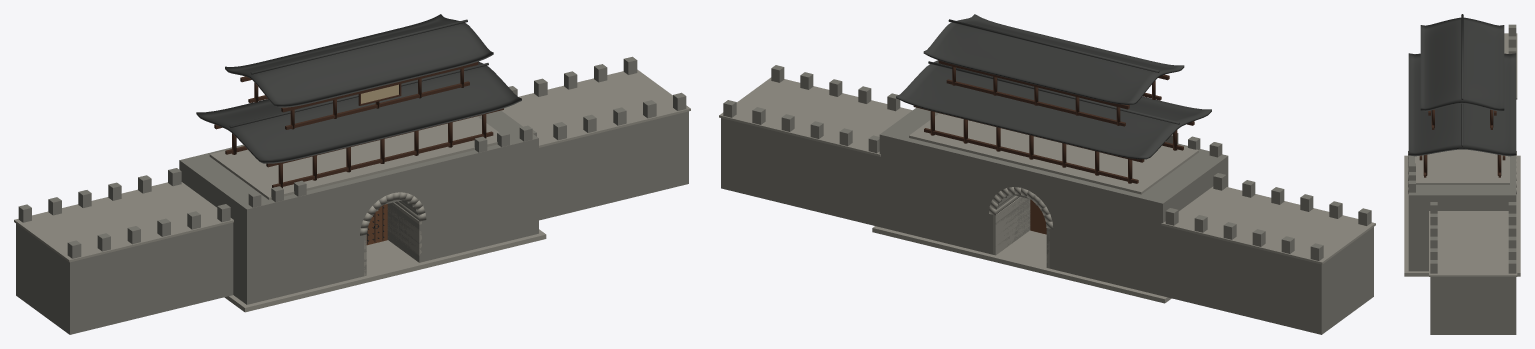
Rendered from SM_Zhengximen_LOD3.fbx.
3 views of the same model, side by side, from view 1: azimuth 30°, elevation 25°; view 2: azimuth 150°, elevation 25°; view 3: azimuth 270°, elevation 25° (orthographic). The views are drawn at different scales.
Parts seen in each view (by area): view 1: SM_Zhengximen_LOD3_GrayBrick, SM_Zhengximen_LOD3_StoneFoundation, SM_Zhengximen_LOD3_ClayRoofTile, SM_Zhengximen_LOD3_DarkTimber, SM_Zhengximen_LOD3_AgedWood; view 2: SM_Zhengximen_LOD3_GrayBrick, SM_Zhengximen_LOD3_StoneFoundation, SM_Zhengximen_LOD3_ClayRoofTile, SM_Zhengximen_LOD3_DarkTimber; view 3: SM_Zhengximen_LOD3_ClayRoofTile, SM_Zhengximen_LOD3_GrayBrick, SM_Zhengximen_LOD3_StoneFoundation, SM_Zhengximen_LOD3_DarkTimber.
Boxes of the visible parts, box(x1,y1,x2,y2) form: SM_Zhengximen_LOD3_GrayBrick: box(16, 56, 688, 334); SM_Zhengximen_LOD3_StoneFoundation: box(14, 69, 690, 312); SM_Zhengximen_LOD3_ClayRoofTile: box(196, 14, 521, 163); SM_Zhengximen_LOD3_DarkTimber: box(214, 62, 503, 188); SM_Zhengximen_LOD3_AgedWood: box(366, 204, 387, 245); SM_Zhengximen_LOD3_GrayBrick: box(721, 65, 1373, 334); SM_Zhengximen_LOD3_StoneFoundation: box(719, 77, 1375, 303); SM_Zhengximen_LOD3_ClayRoofTile: box(896, 14, 1211, 159); SM_Zhengximen_LOD3_DarkTimber: box(913, 60, 1194, 183); SM_Zhengximen_LOD3_ClayRoofTile: box(1408, 14, 1516, 156); SM_Zhengximen_LOD3_GrayBrick: box(1408, 24, 1516, 334); SM_Zhengximen_LOD3_StoneFoundation: box(1404, 33, 1520, 276); SM_Zhengximen_LOD3_DarkTimber: box(1419, 109, 1505, 177).
Bounding box in the file's own units: 5320 × 1080 × 1661.
